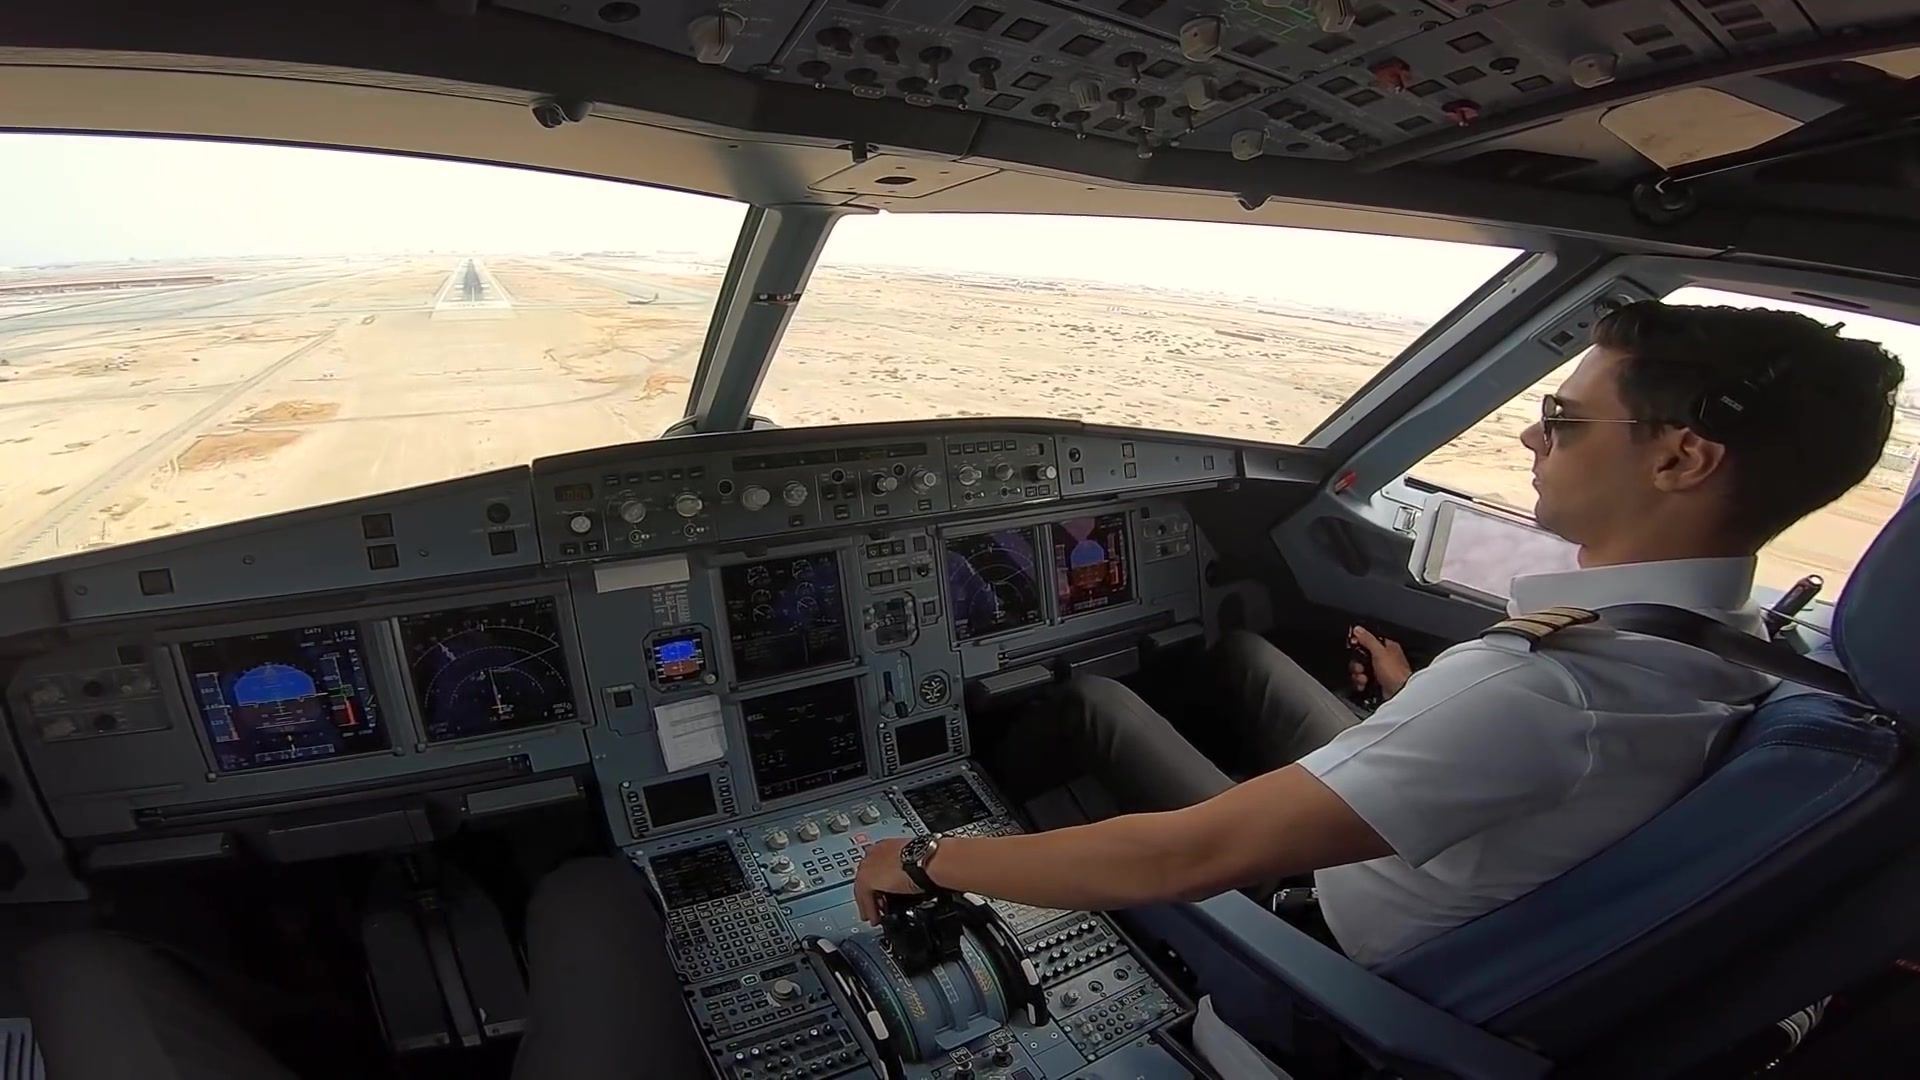runway: (433, 256, 512, 313)
